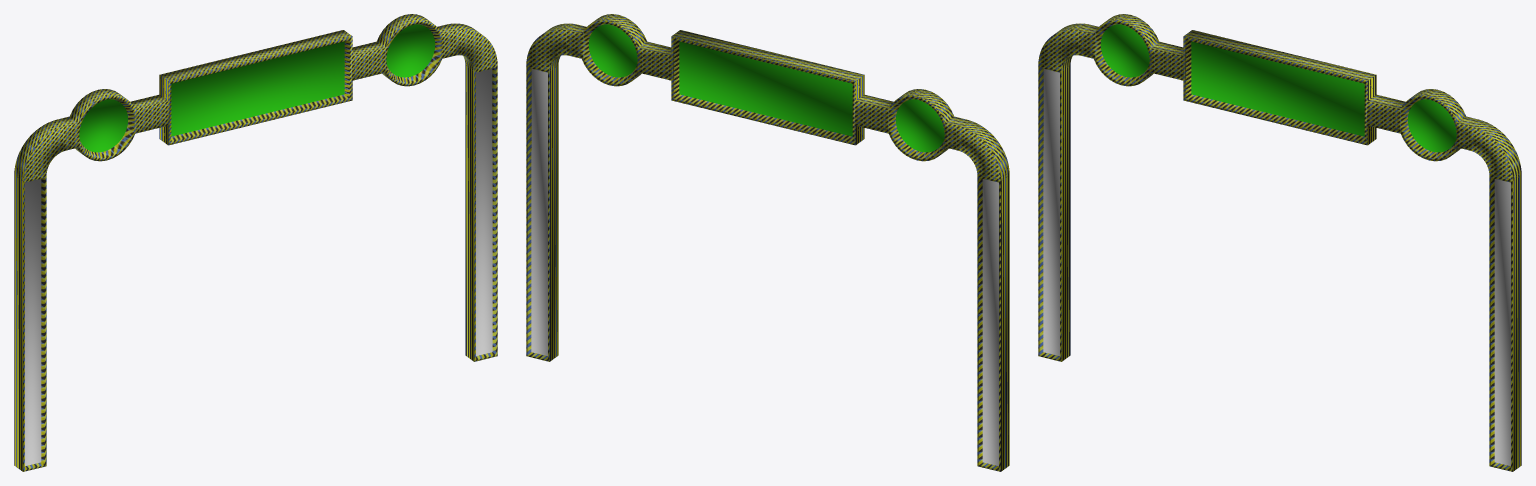
File: checkpoint.dae
3 renders of one model, left to right at view 1: azimuth 30°, elevation 25°; view 2: azimuth 150°, elevation 25°; view 3: azimuth 330°, elevation 25°, orthographic.
Visible parts, largest first — view 1: Cube1-0; view 2: Cube1-0; view 3: Cube1-0.
Boxes of the visible parts, left/top/right/bottom form: Cube1-0: left=14, top=14, right=497, bottom=471; Cube1-0: left=526, top=14, right=1009, bottom=471; Cube1-0: left=1038, top=14, right=1521, bottom=471.
Size of the model in its own units: 1.11 by 0.7943 by 0.0359.
